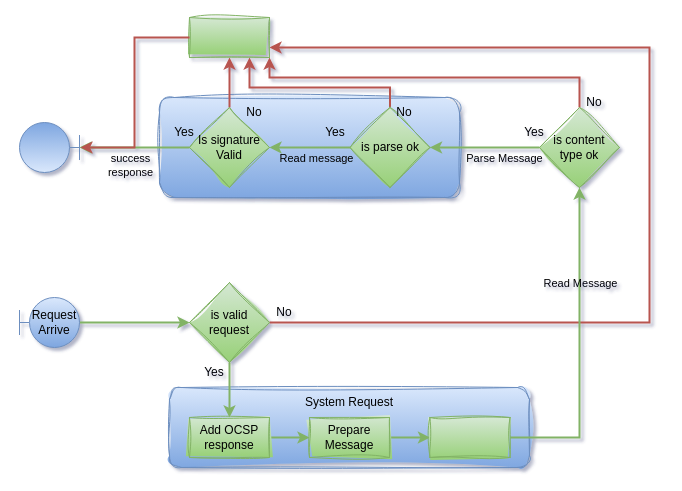
The diagram is 682 pixels wide and 491 high, and some of its shapes have lost their labels. The shapes that lost their labels are listed below. From the top down, each one's centre as x and y in pixels, then its label:
At pixel 229 37: "Prepare Fail Response".
At pixel 49 147: "Send Response".
At pixel 469 437: "Send Signature".
